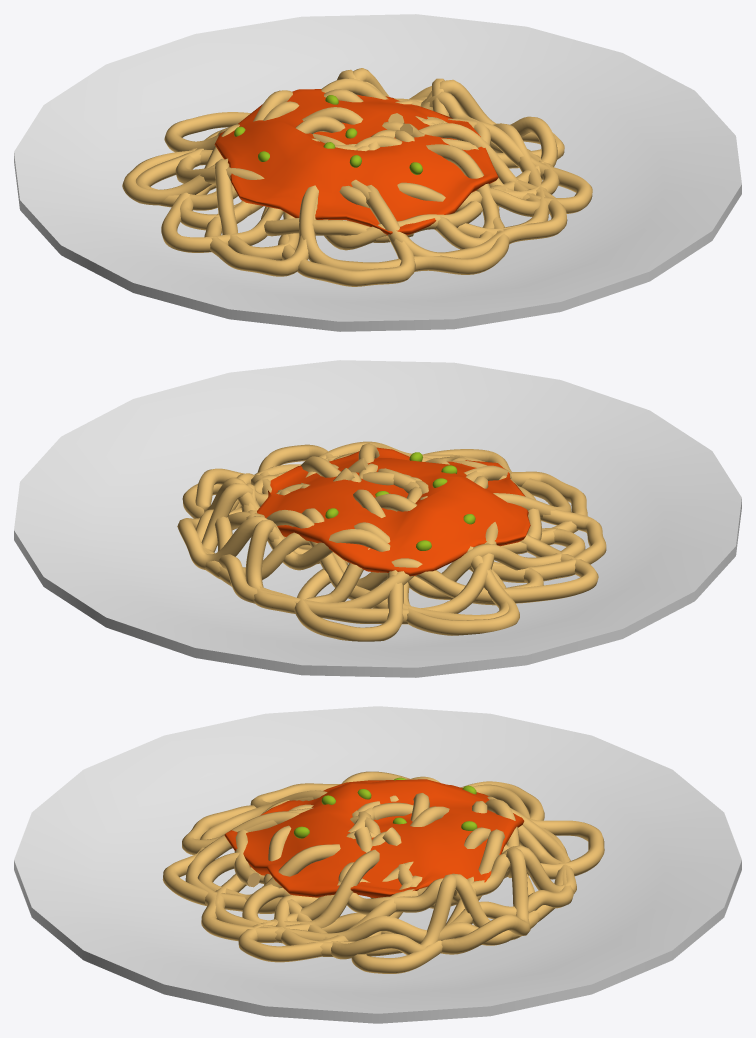
File: pasta.fbx
The picture shows the model from 3 angles, top to bottom: view 1: azimuth 30°, elevation 25°; view 2: azimuth 150°, elevation 25°; view 3: azimuth 270°, elevation 25°; orthographic projection.
Visible parts, largest first — view 1: pCylinder1, pCube27; view 2: pCylinder1, pCube27; view 3: pCylinder1, pCube27.
Part boxes in pixels (<box>): pCylinder1: <box>14,14,741,331</box>; pCube27: <box>122,68,592,286</box>; pCylinder1: <box>14,360,741,677</box>; pCube27: <box>177,441,606,641</box>; pCylinder1: <box>14,706,741,1023</box>; pCube27: <box>162,771,604,973</box>.
Bounding box in the file's own units: 1.8 × 0.2428 × 1.8.
